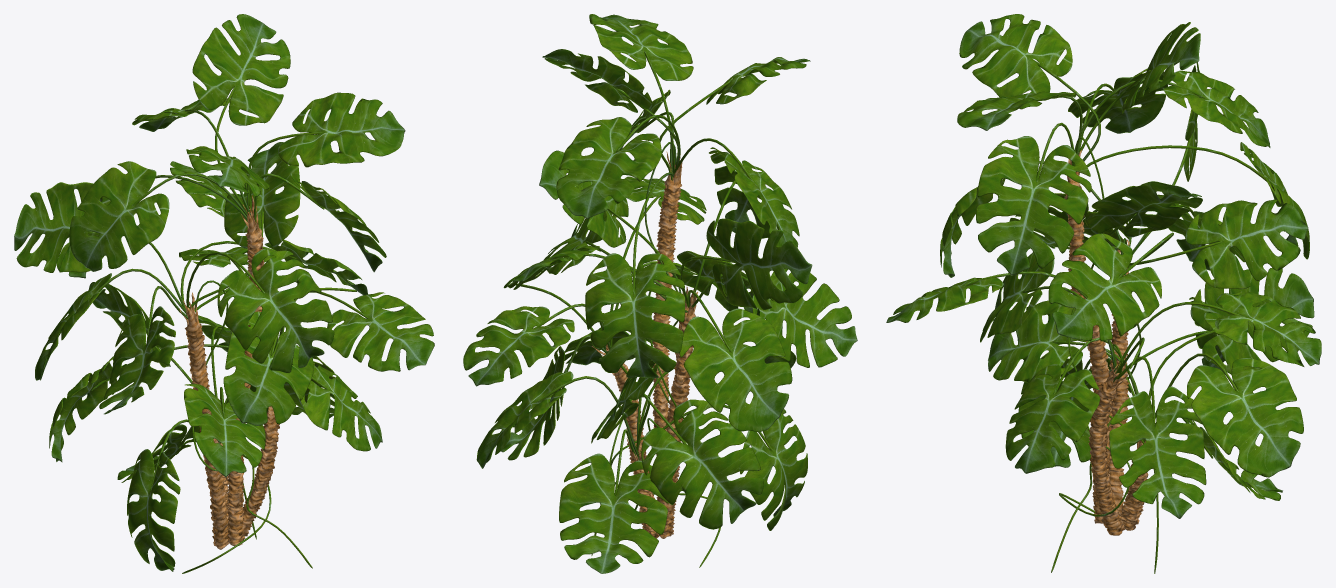
Rendered from tropical.glb.
3 renders of one model, left to right at view 1: azimuth 30°, elevation 25°; view 2: azimuth 150°, elevation 25°; view 3: azimuth 270°, elevation 25°, orthographic. The views are drawn at different scales.
Parts seen in each view (by area): view 1: plant.012; view 2: plant.012; view 3: plant.012.
Boxes of the visible parts, bbox=[...] form: plant.012: bbox=[14, 14, 434, 573]; plant.012: bbox=[463, 14, 857, 573]; plant.012: bbox=[886, 14, 1321, 573].
Size of the model in its own units: 1.84 by 2.82 by 2.05.
Materials: 2 (2 with a texture image).
